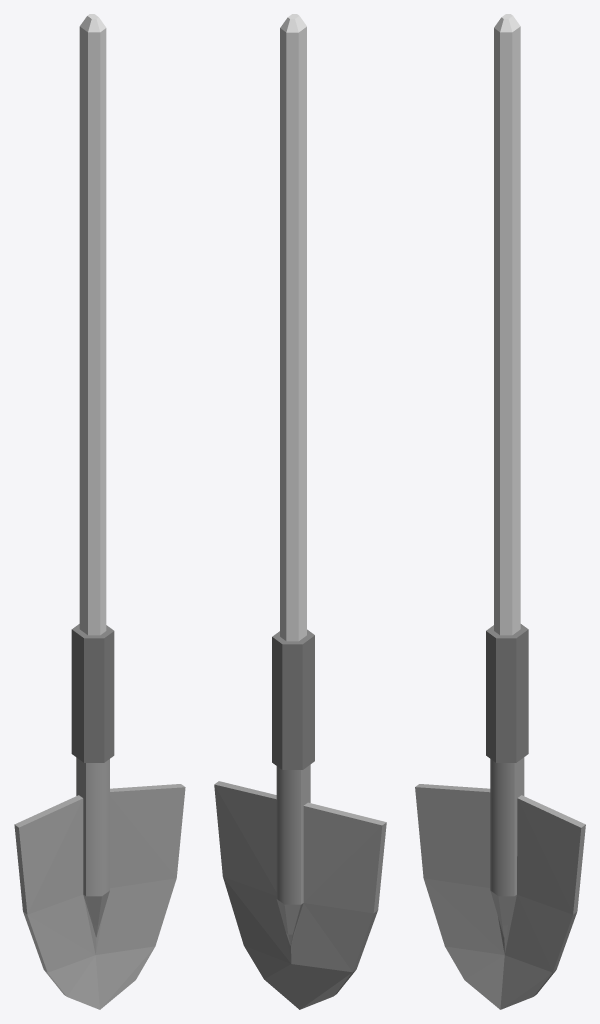
The model's file is Shovel.FBX.
3 views of the same model, side by side, from view 1: azimuth 30°, elevation 25°; view 2: azimuth 150°, elevation 25°; view 3: azimuth 330°, elevation 25° (orthographic).
Parts seen in each view (by area): view 1: Cylinder001; view 2: Cylinder001; view 3: Cylinder001.
Boxes of the visible parts, bbox=[...] form: Cylinder001: bbox=[14, 14, 185, 1009]; Cylinder001: bbox=[214, 14, 386, 1009]; Cylinder001: bbox=[415, 14, 585, 1009].
Bounding box in the file's own units: 70.06 × 397 × 16.27.
